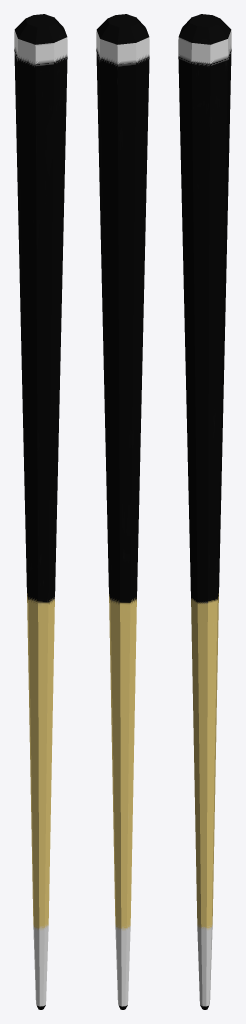
The model's file is cue_stick.obj.
The picture shows the model from 3 angles, left to right: view 1: azimuth 30°, elevation 25°; view 2: azimuth 210°, elevation 25°; view 3: azimuth 330°, elevation 25°; orthographic projection.
Visible parts, largest first — view 1: Cue_Stick; view 2: Cue_Stick; view 3: Cue_Stick.
Boxes of the visible parts, x1,y1,x2,y2 form: Cue_Stick: (14, 14, 67, 1009); Cue_Stick: (96, 14, 149, 1009); Cue_Stick: (178, 14, 231, 1009).
Size of the model in its own units: 0.0975 by 2 by 0.0971.
Materials: 1 (1 with a texture image).
